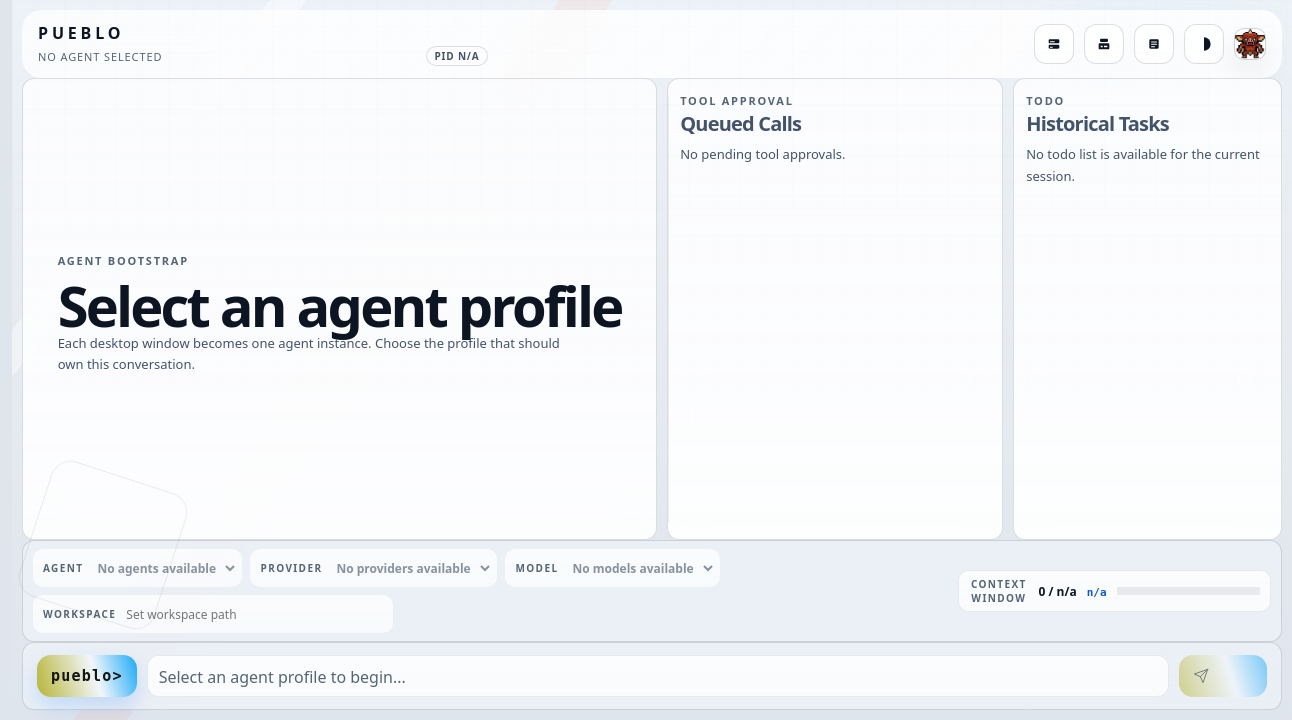
Desktop Renderer › creates a new session directly from the sidebar
The image size is (1292, 720).
Click the button named "Show session sidebar" at (1054, 44), box [1034,24,1074,64]
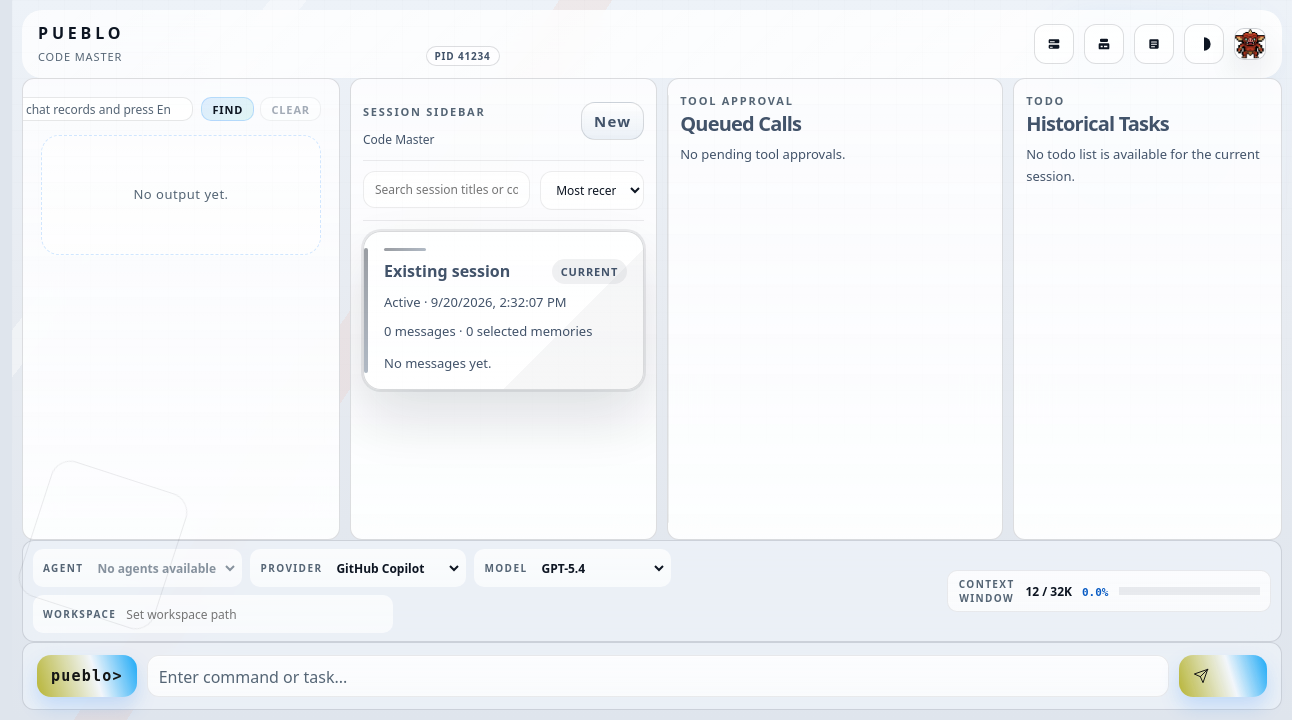
Now the button "New" is shown
Click the button "New" at (613, 121), box [581,102,644,140]
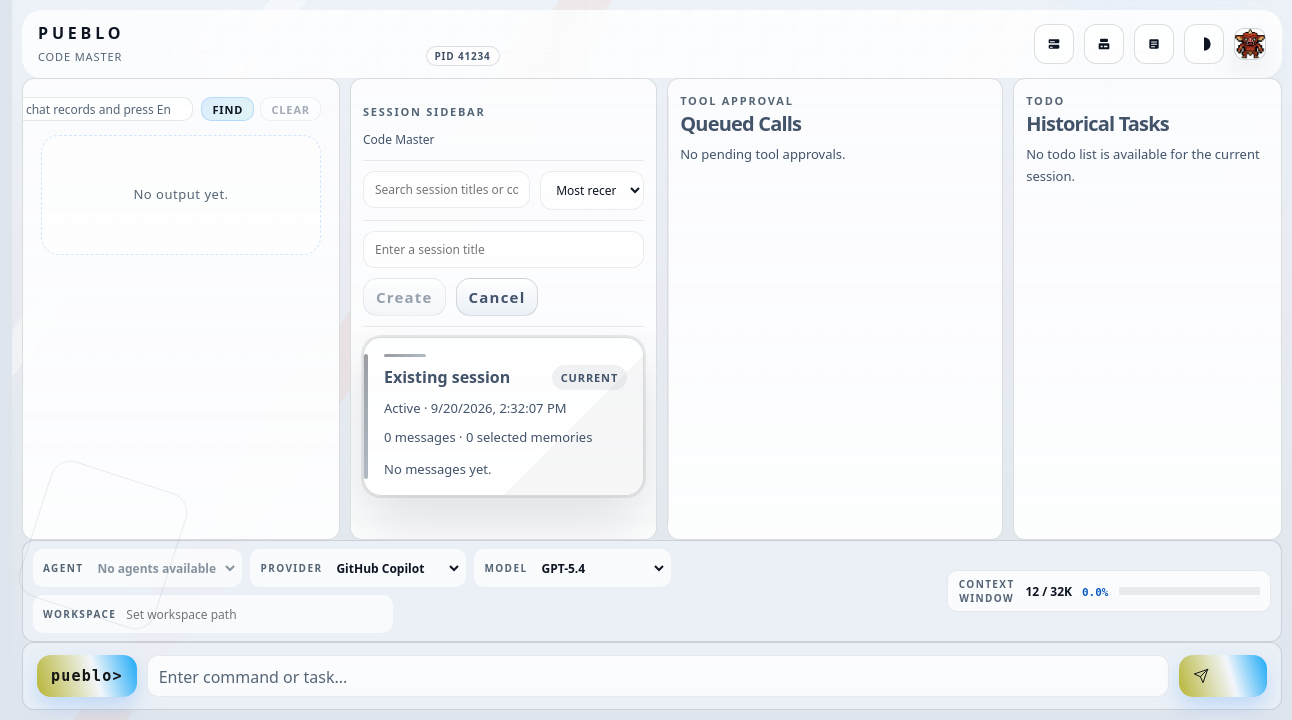
Type "Release review" into the field with placeholder "Enter a session title" at (504, 249), box [363,231,644,268]
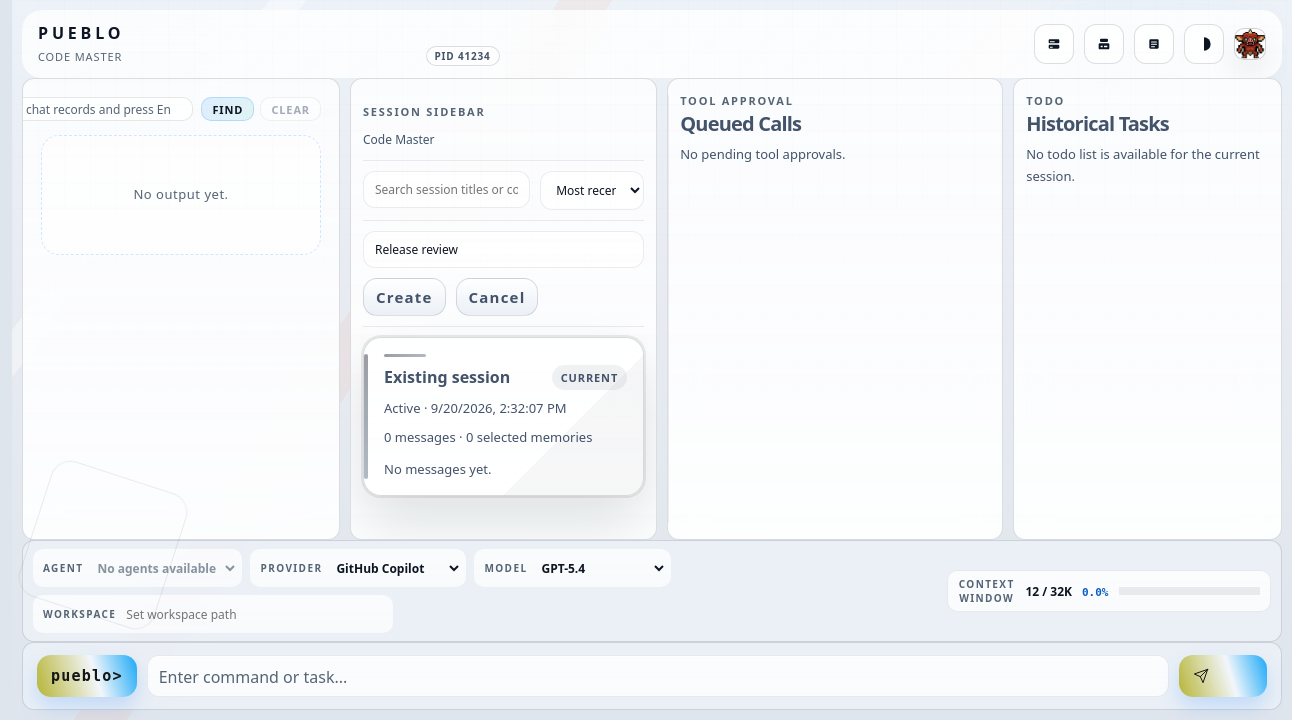
Click the button "Create" at (404, 297), box [363,278,446,316]
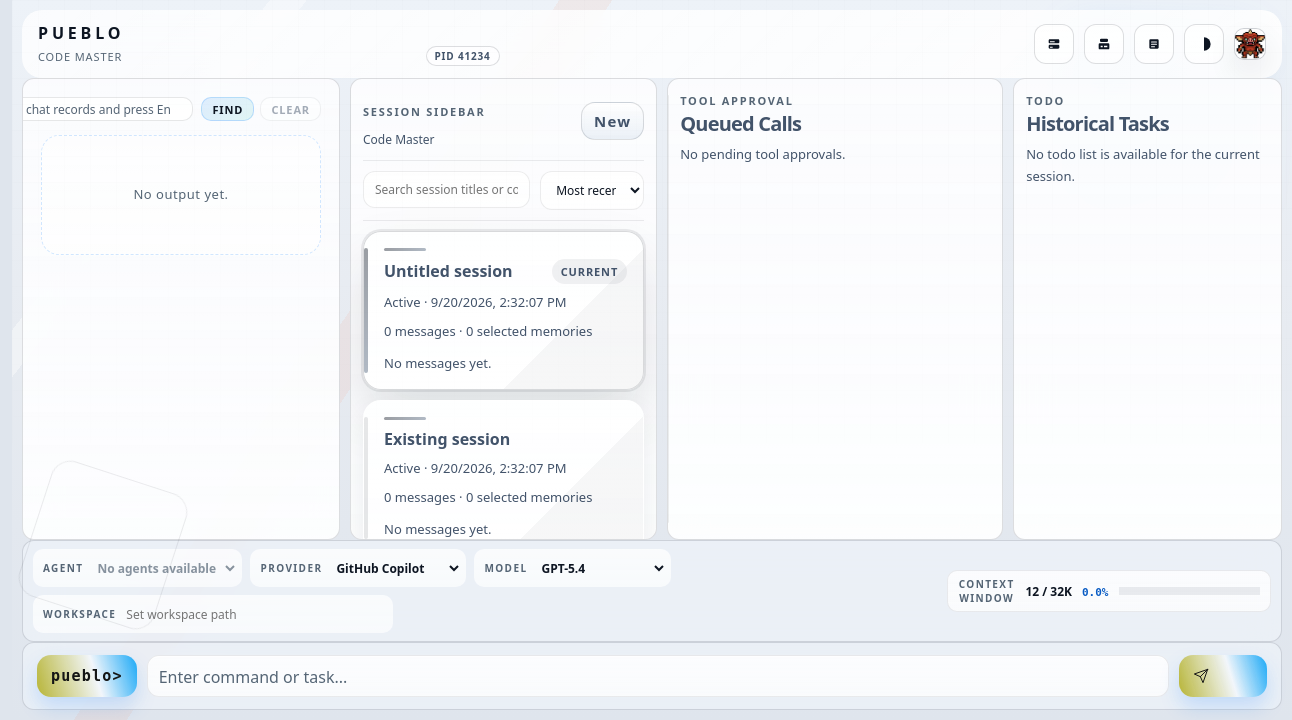
Now the heading "Untitled session" is shown, box [384,260,513,282]
